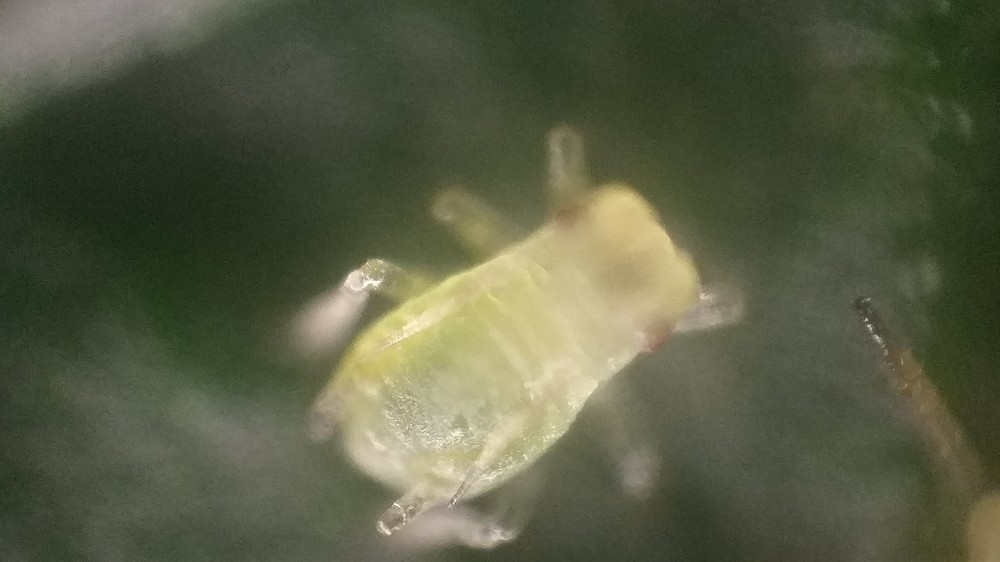Pulgon: (279, 115, 780, 559)
